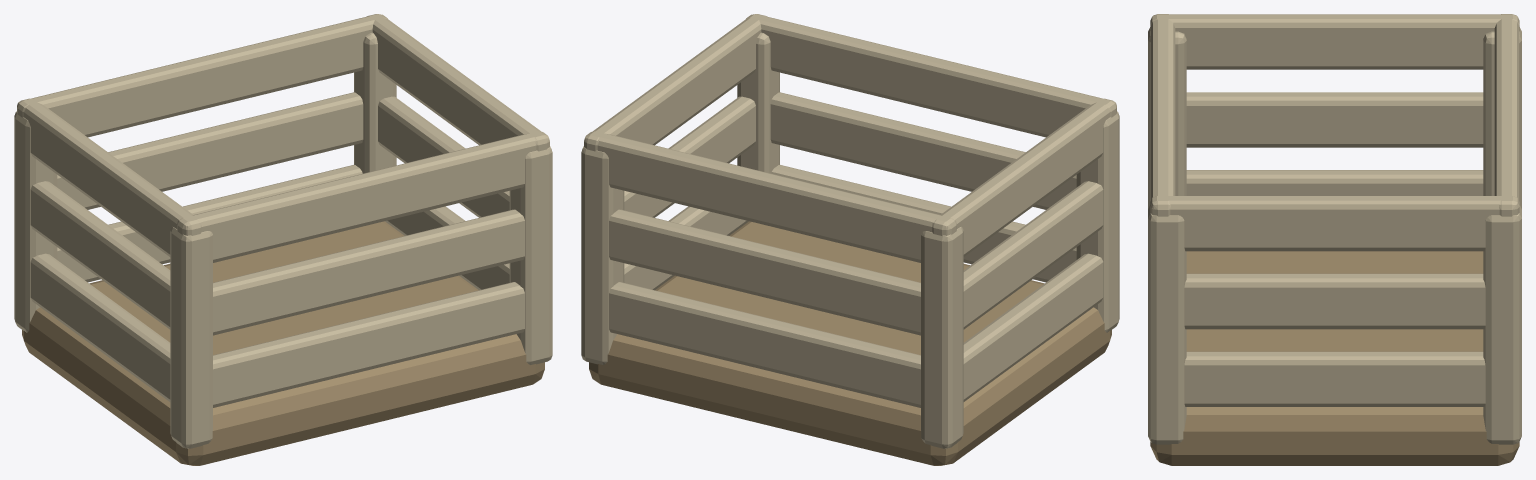
File: crate.glb
3 views of the same model, side by side, from view 1: azimuth 30°, elevation 25°; view 2: azimuth 150°, elevation 25°; view 3: azimuth 270°, elevation 25° (orthographic). The views are drawn at different scales.
Parts seen in each view (by area): view 1: Trash_surface; view 2: Trash_surface; view 3: Trash_surface.
Boxes of the visible parts, box(x1,y1,x2,y2) form: Trash_surface: box(14, 14, 552, 465); Trash_surface: box(581, 14, 1119, 465); Trash_surface: box(1148, 14, 1521, 465).
Bounding box in the file's own units: 0.535 × 0.3475 × 0.435.
